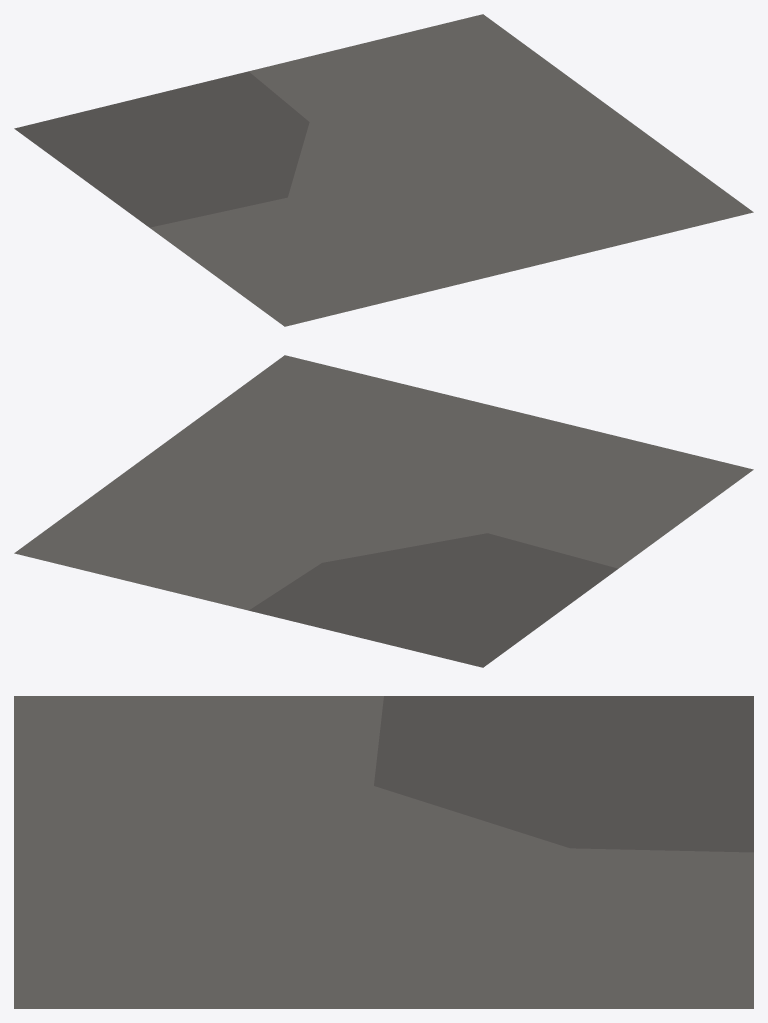
The model's file is AI_Env_Floor_01_Stained_04.fbx.
The picture shows the model from 3 angles, top to bottom: view 1: azimuth 30°, elevation 25°; view 2: azimuth 150°, elevation 25°; view 3: azimuth 270°, elevation 25°; orthographic projection. The views are drawn at different scales.
Parts seen in each view (by area): view 1: AI_Env_Floor_01_Stained_04; view 2: AI_Env_Floor_01_Stained_04; view 3: AI_Env_Floor_01_Stained_04.
Part boxes in pixels (<box>): AI_Env_Floor_01_Stained_04: <box>14,14,753,326</box>; AI_Env_Floor_01_Stained_04: <box>14,355,753,667</box>; AI_Env_Floor_01_Stained_04: <box>14,696,753,1008</box>.
Size of the model in its own units: 5 by 0 by 5.
